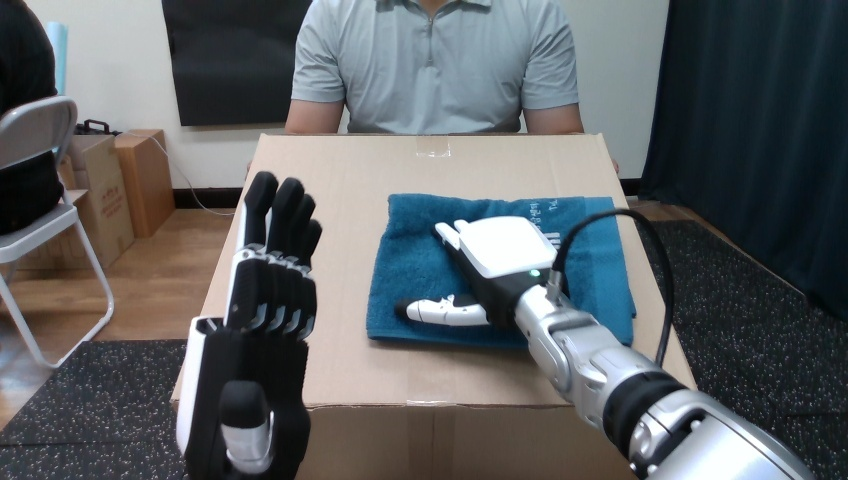left robot hand: (396, 208, 812, 479), (177, 171, 321, 478), (563, 215, 665, 362)
